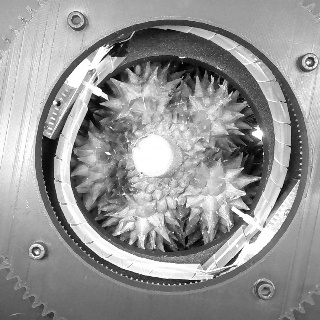base: (130, 129, 187, 186)
end: (131, 133, 174, 178)
